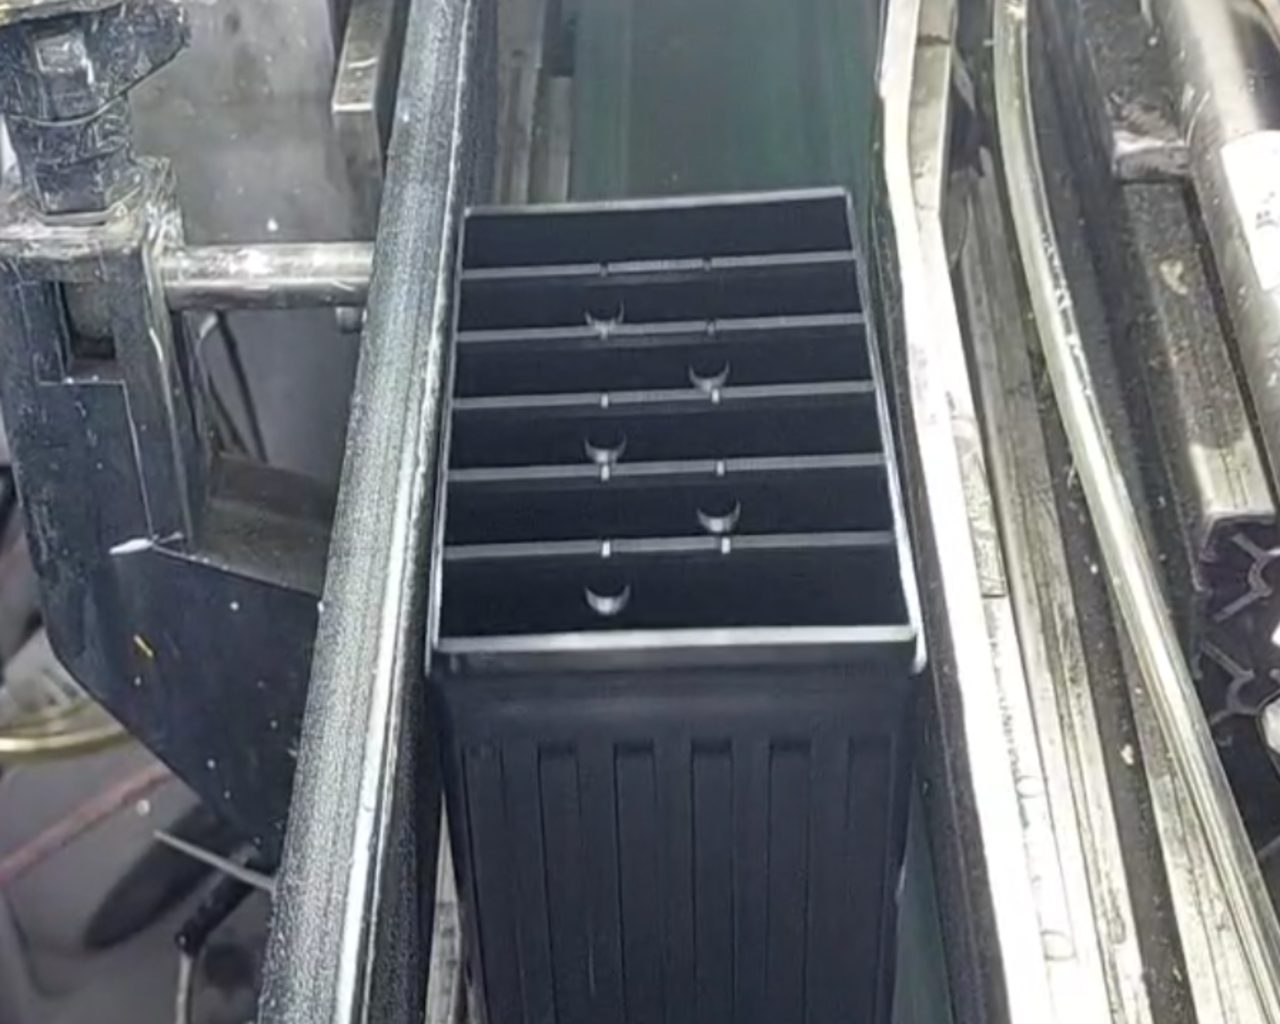box: (405, 167, 953, 705)
round: (569, 554, 643, 622), (669, 335, 748, 397), (679, 482, 757, 544), (571, 416, 642, 472), (571, 275, 635, 336)
